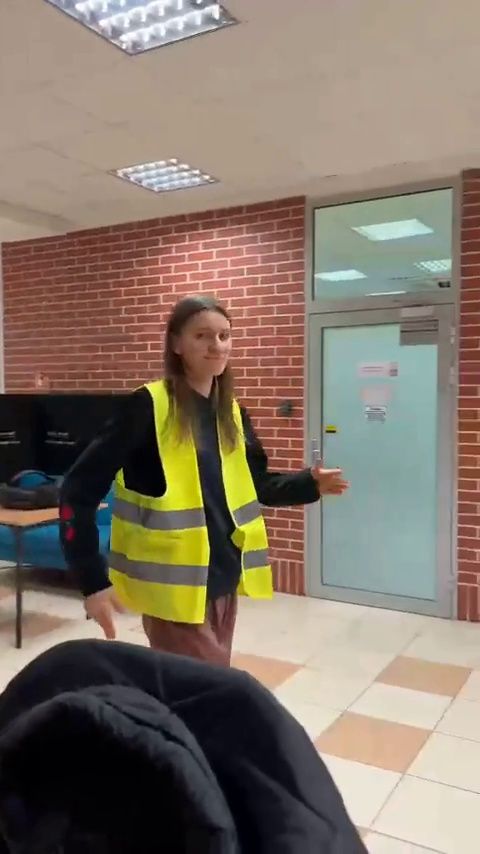vest: (75, 295, 334, 656)
